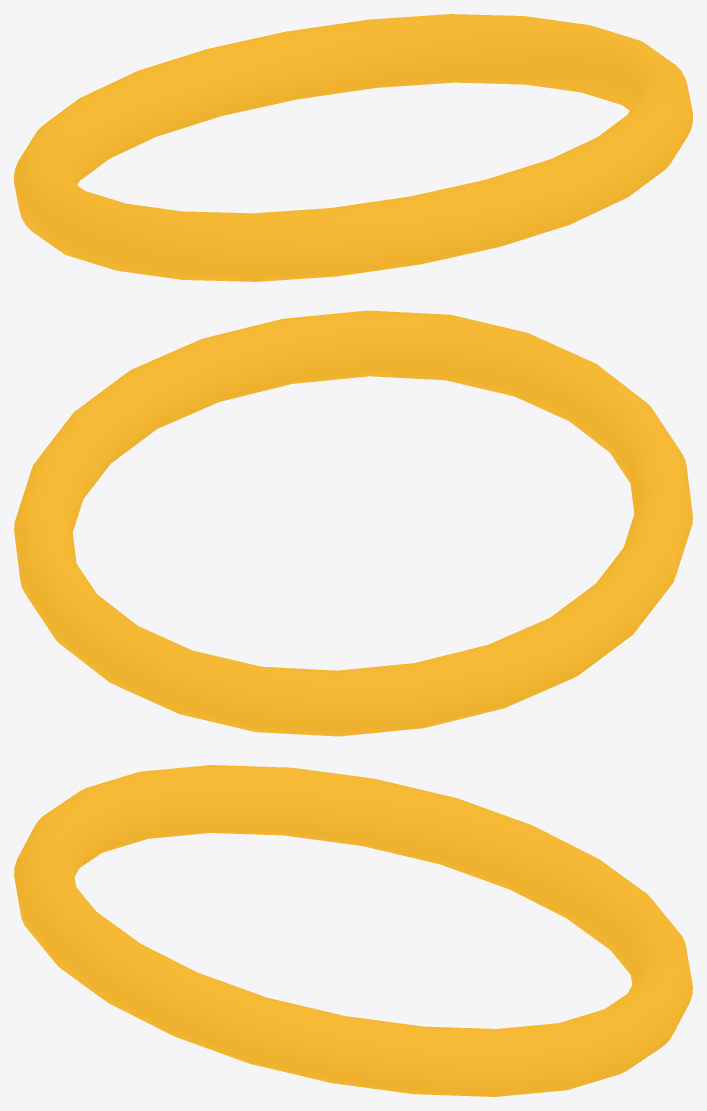
The model's file is halo.glb.
3 renders of one model, top to bottom at view 1: azimuth 30°, elevation 25°; view 2: azimuth 150°, elevation 25°; view 3: azimuth 270°, elevation 25°, orthographic.
Visible parts, largest first — view 1: Halo_576.Shape.002; view 2: Halo_576.Shape.002; view 3: Halo_576.Shape.002.
Part boxes in pixels (box(x1,y1,x2,y2)): Halo_576.Shape.002: box(14, 14, 692, 281); Halo_576.Shape.002: box(14, 310, 692, 736); Halo_576.Shape.002: box(14, 765, 692, 1096).
Bounding box in the file's own units: 6.53 × 1.78 × 6.44.
